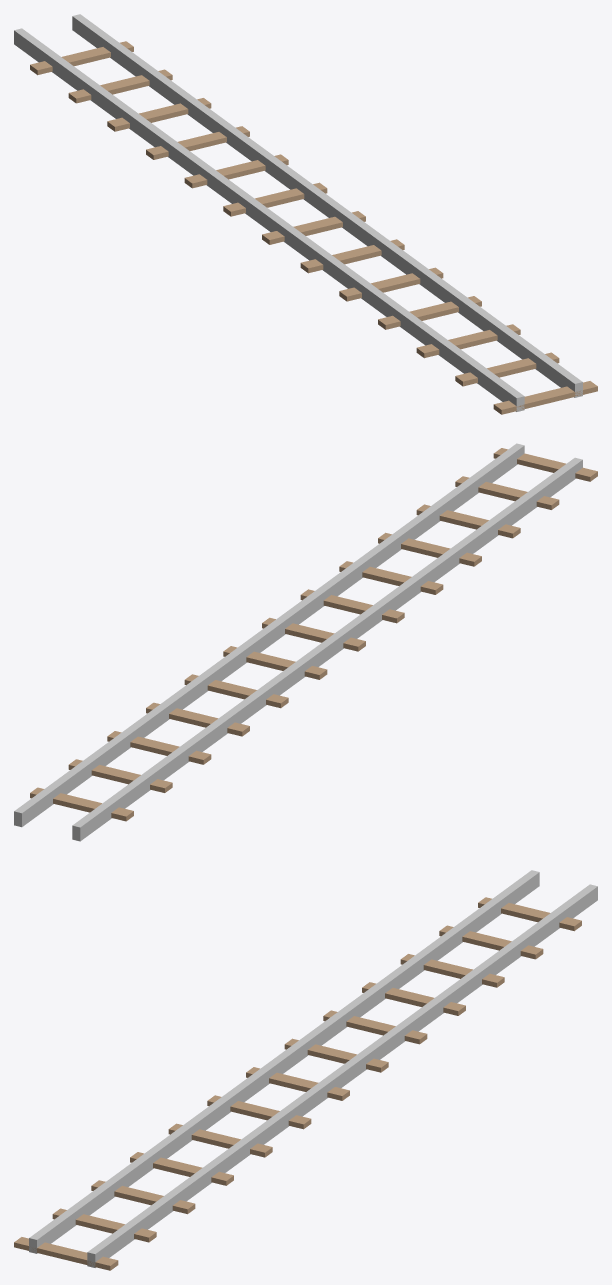
The model's file is train_tracks.glb.
3 views of the same model, one above another, from view 1: azimuth 30°, elevation 25°; view 2: azimuth 150°, elevation 25°; view 3: azimuth 330°, elevation 25° (orthographic).
Visible parts, largest first — view 1: Cube.001, Cube, Cube.027, Cube.004, Cube.023, Cube.011, Cube.025, Cube.019, Cube.007, Cube.013, Cube.017, Cube.021 (+3 smaller); view 2: Cube.001, Cube, Cube.013, Cube.007, Cube.023, Cube.025, Cube.011, Cube.019, Cube.004, Cube.009, Cube.017, Cube.027 (+3 smaller); view 3: Cube, Cube.001, Cube.027, Cube.004, Cube.023, Cube.011, Cube.025, Cube.019, Cube.007, Cube.013, Cube.017, Cube.021 (+3 smaller).
Boxes of the visible parts, bbox=[...] form: Cube.001: bbox=[14, 28, 524, 411]; Cube: bbox=[72, 14, 582, 397]; Cube.027: bbox=[493, 381, 597, 414]; Cube.004: bbox=[68, 69, 172, 103]; Cube.023: bbox=[416, 324, 520, 358]; Cube.011: bbox=[184, 154, 288, 188]; Cube.025: bbox=[455, 352, 559, 386]; Cube.019: bbox=[339, 267, 443, 301]; Cube.007: bbox=[107, 98, 211, 131]; Cube.013: bbox=[223, 182, 327, 216]; Cube.017: bbox=[300, 239, 404, 273]; Cube.021: bbox=[378, 296, 481, 329]; Cube.001: bbox=[72, 457, 582, 841]; Cube: bbox=[14, 443, 524, 827]; Cube.013: bbox=[223, 646, 327, 679]; Cube.007: bbox=[107, 731, 211, 764]; Cube.023: bbox=[416, 504, 520, 538]; Cube.025: bbox=[455, 476, 559, 509]; Cube.011: bbox=[184, 674, 288, 708]; Cube.019: bbox=[339, 561, 443, 594]; Cube.004: bbox=[68, 759, 172, 792]; Cube.009: bbox=[146, 702, 249, 736]; Cube.017: bbox=[300, 589, 404, 623]; Cube.027: bbox=[493, 448, 597, 481]; Cube: bbox=[87, 884, 597, 1267]; Cube.001: bbox=[29, 870, 539, 1253]; Cube.027: bbox=[14, 1237, 118, 1270]; Cube.004: bbox=[439, 925, 543, 959]; Cube.023: bbox=[91, 1180, 195, 1214]; Cube.011: bbox=[323, 1010, 427, 1044]; Cube.025: bbox=[52, 1208, 156, 1242]; Cube.019: bbox=[168, 1123, 272, 1157]; Cube.007: bbox=[400, 954, 504, 987]; Cube.013: bbox=[284, 1038, 388, 1072]; Cube.017: bbox=[207, 1095, 311, 1129]; Cube.021: bbox=[130, 1152, 233, 1185].
Size of the model in its own units: 28.8 by 4 by 260.
